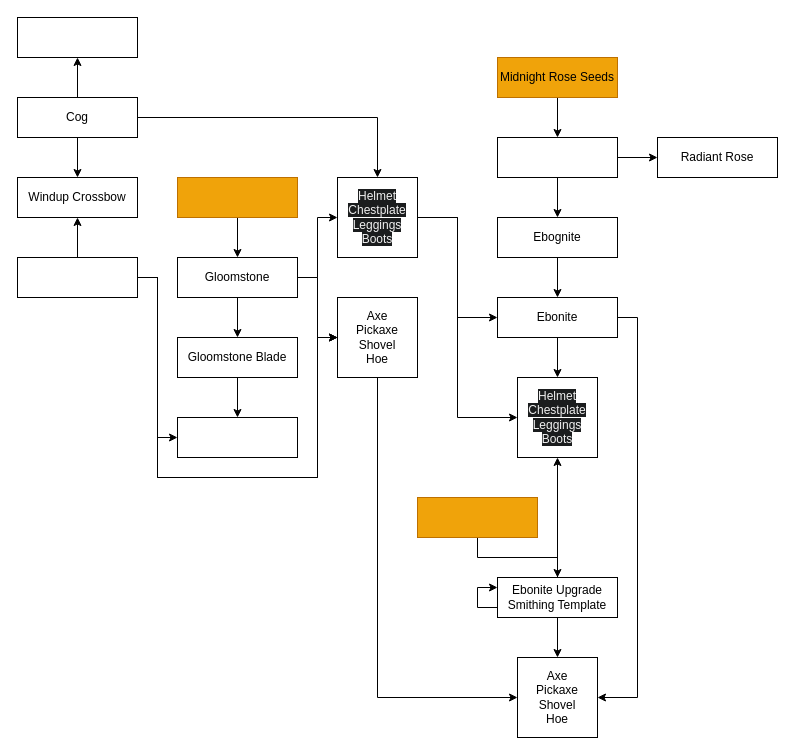
This 795x755 diagram has some shape labels left out. Each missing label, with the centre of its shape:
Automatic Bow: (77,37)
Dagger Double Bladed Sword: (237,437)
Decaying Workshop: (477,517)
Gloomstone Shard: (237,197)
Midnight Rose: (557,157)
Screw: (77,277)
